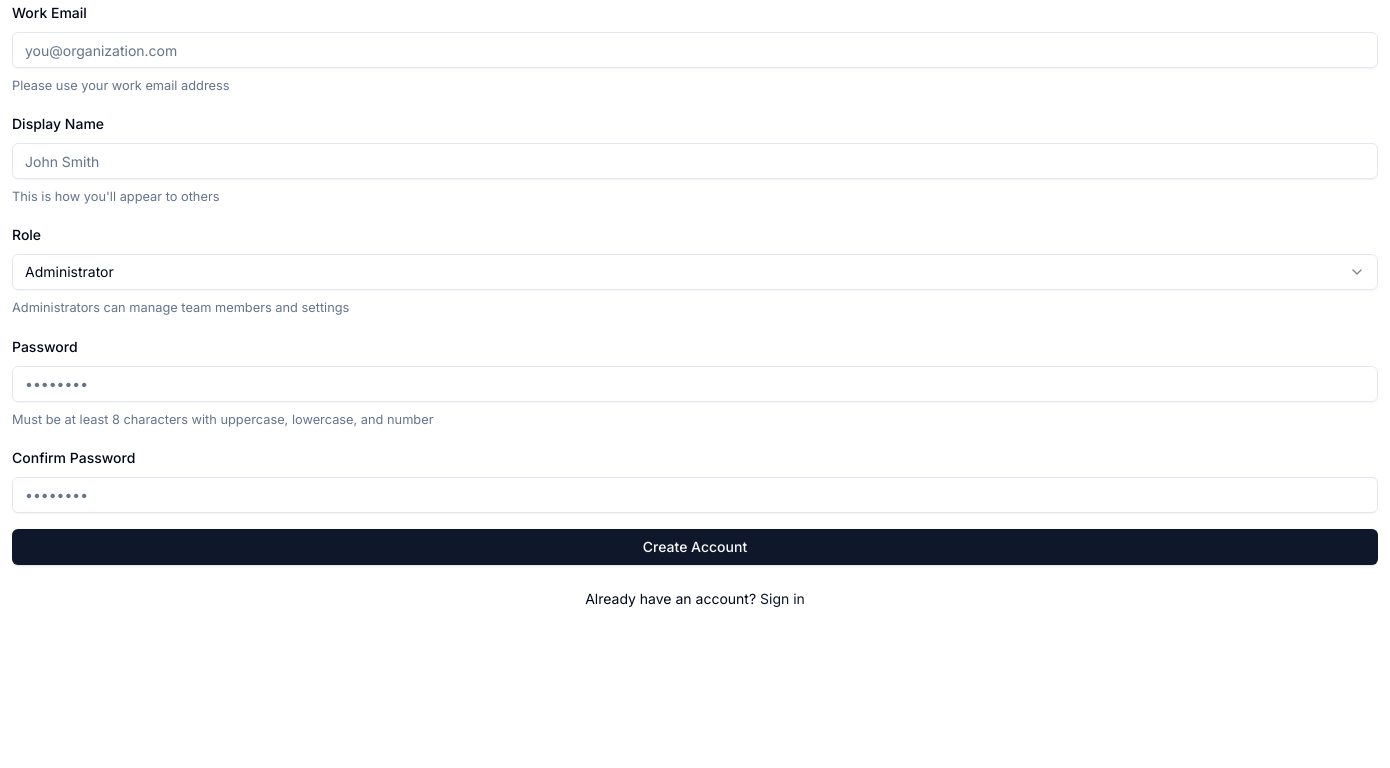
Organization Signup Flow › should handle password mismatch
The width and height of the screenshot is (1390, 768).
# Fill form with mismatched passwords
Step 1. Type "test@example.com" into the field labelled "Work Email" → (695, 50), box x1=12 y1=32 x2=1378 y2=68
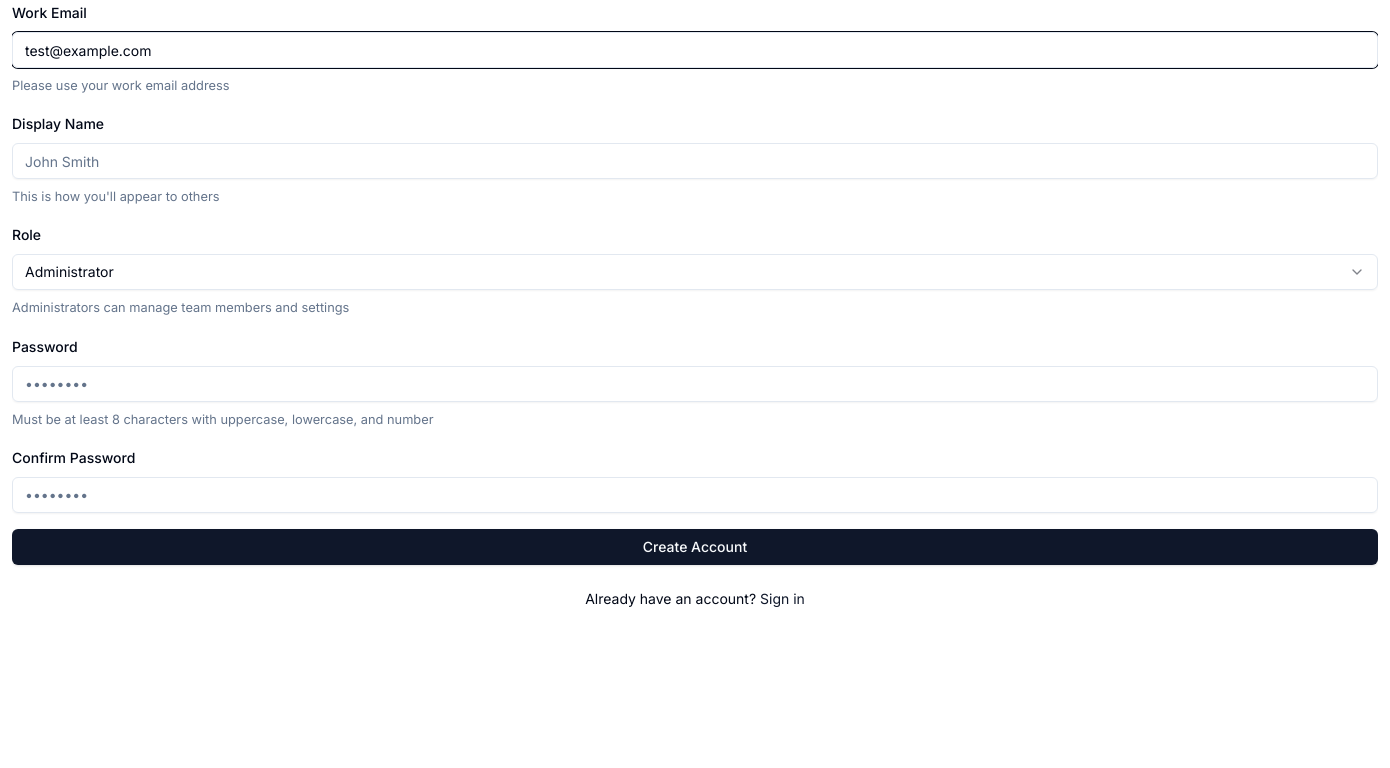
Step 2. Type "Test User" into the field labelled "Display Name" → (695, 161), box x1=12 y1=143 x2=1378 y2=179
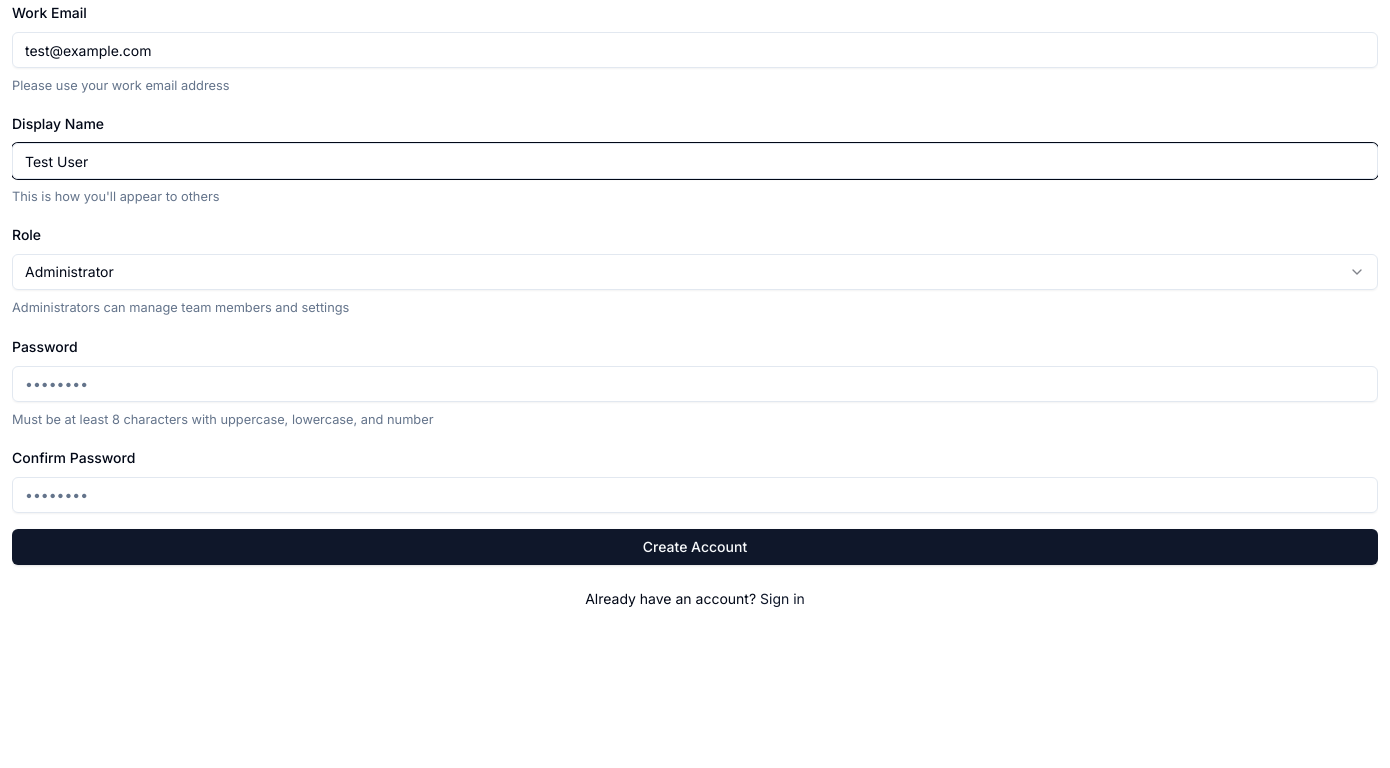
Step 3. Type "Test123!@#" into the password field labelled "Password" → (695, 384), box x1=12 y1=366 x2=1378 y2=402
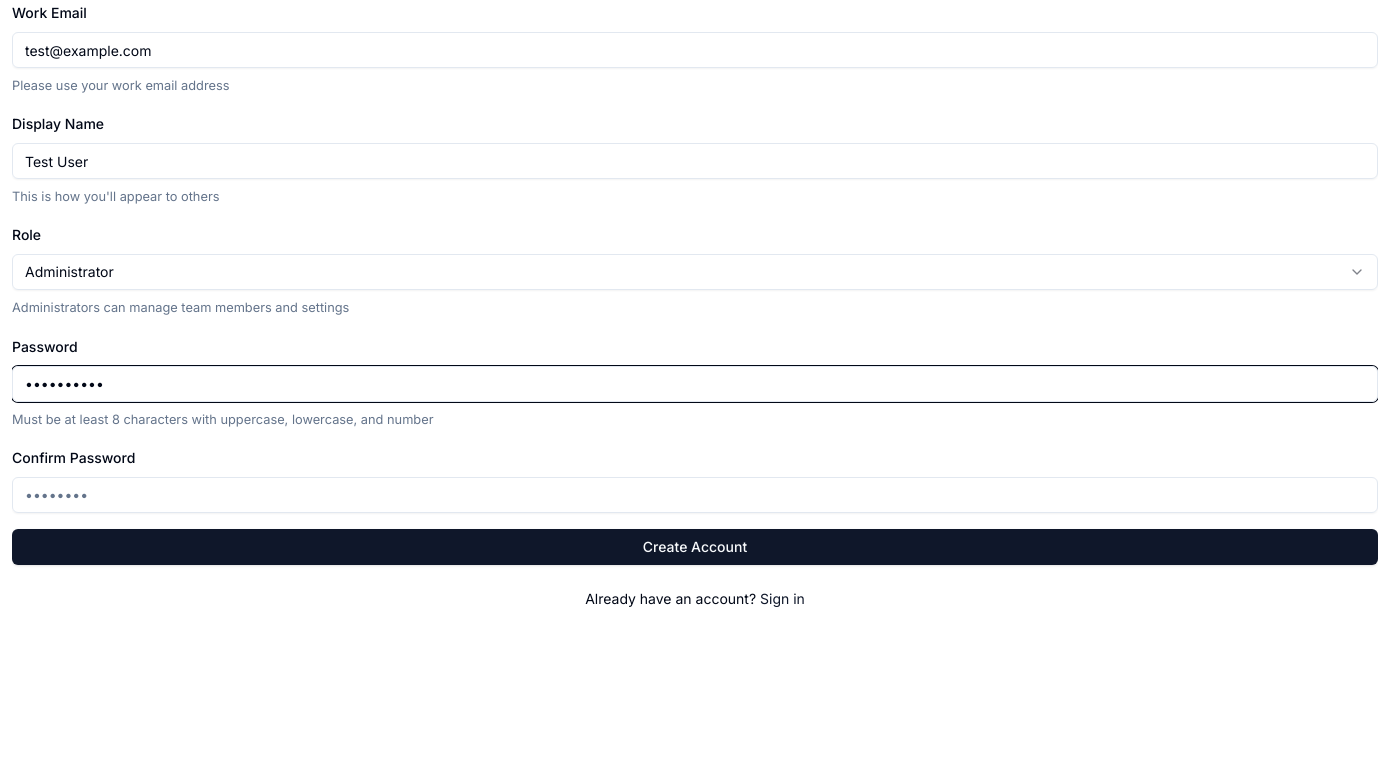
Step 4. Type "DifferentPass123!@#" into the password field labelled "Confirm Password" → (695, 495), box x1=12 y1=477 x2=1378 y2=513
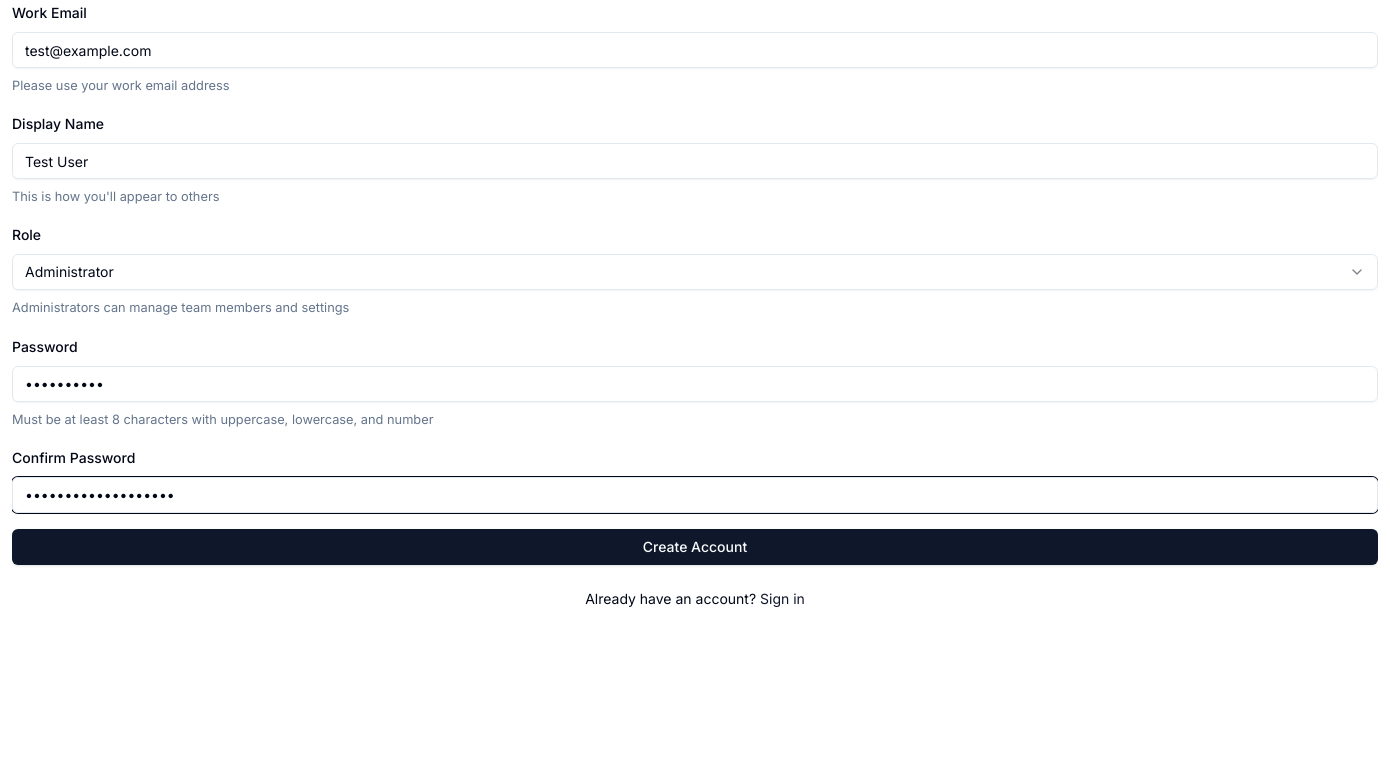
# Submit form
Step 5. Click the button "Create Account" → (695, 547), box x1=12 y1=529 x2=1378 y2=565
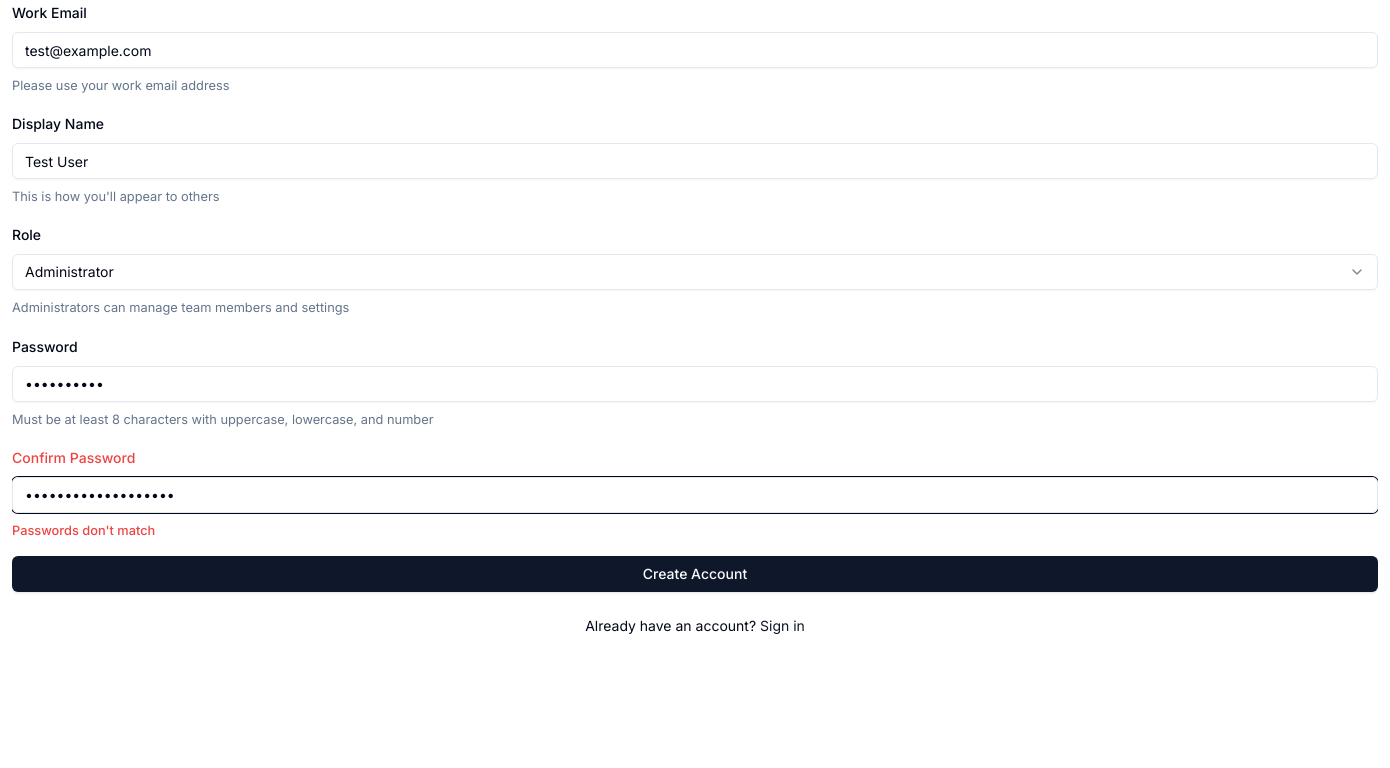
Check: the text "Passwords don't match" is shown, box x1=12 y1=523 x2=155 y2=538
